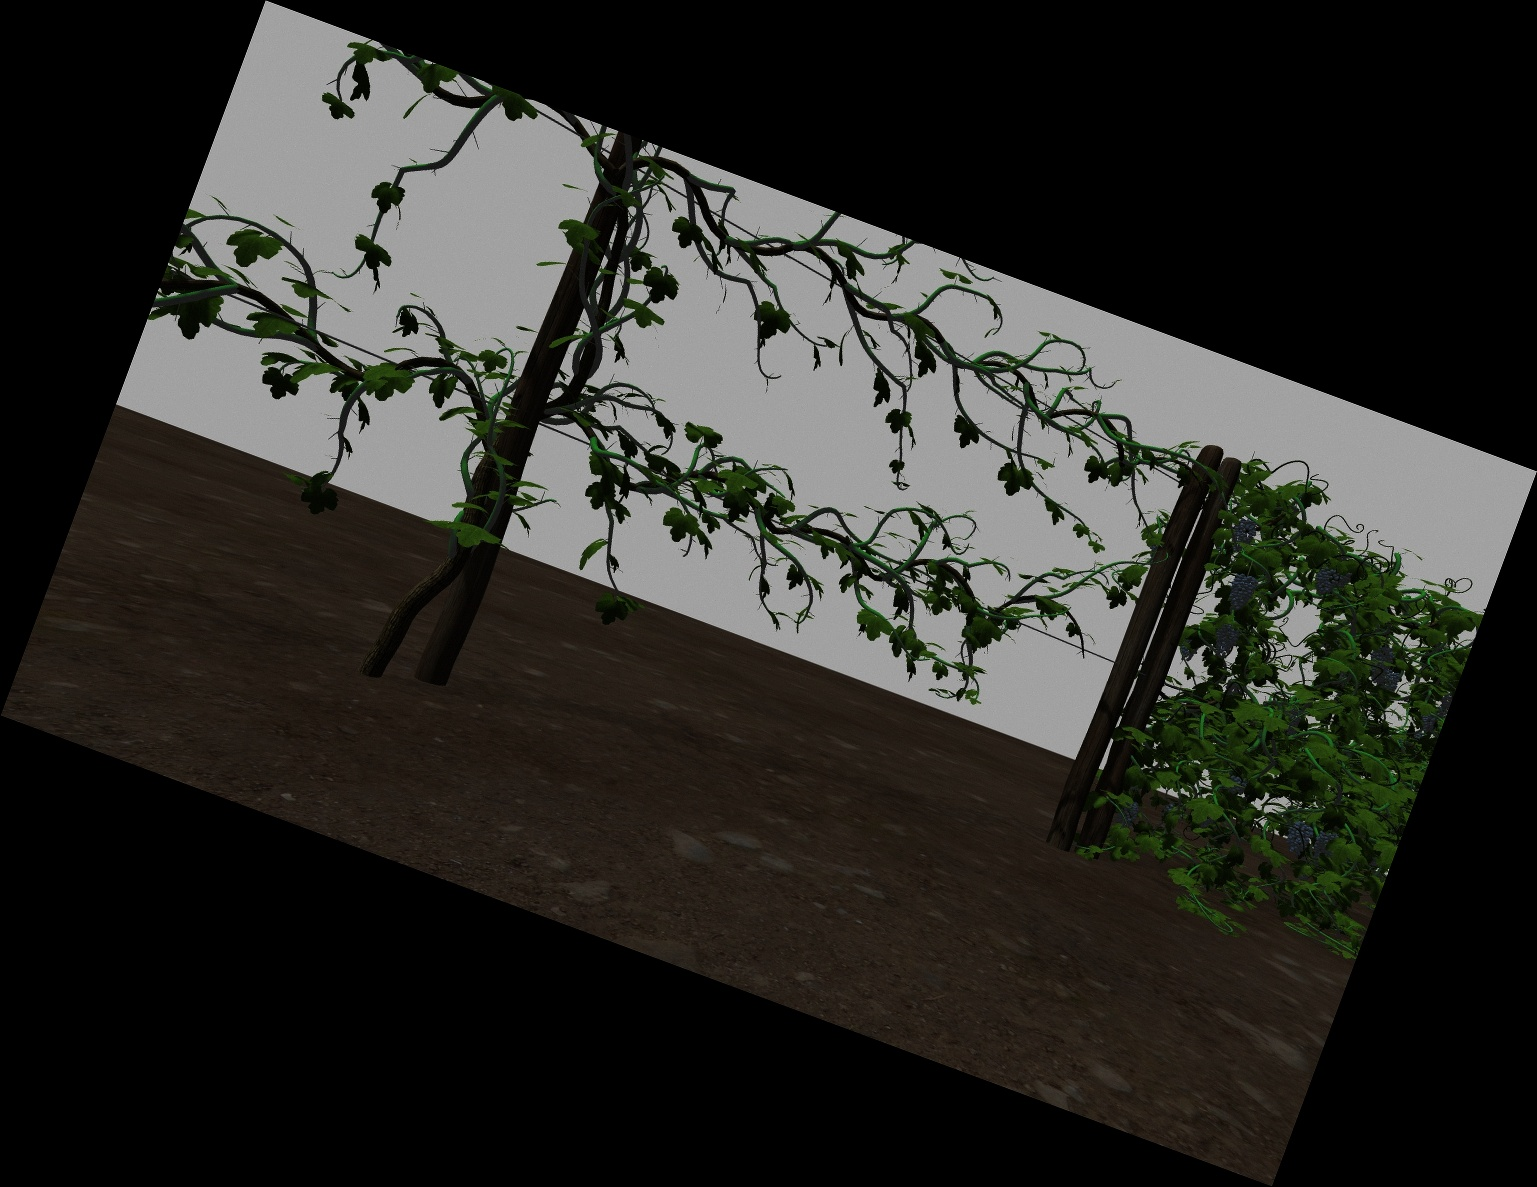grape: (1229, 574, 1255, 610), (1230, 517, 1255, 554), (1214, 622, 1240, 656), (1315, 565, 1343, 596), (1367, 646, 1392, 680), (1286, 822, 1311, 853), (1314, 827, 1333, 857), (1124, 802, 1141, 827), (1422, 707, 1439, 732), (1384, 671, 1401, 691)
